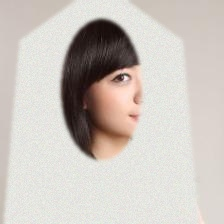Mukena: (0, 11, 202, 224)
